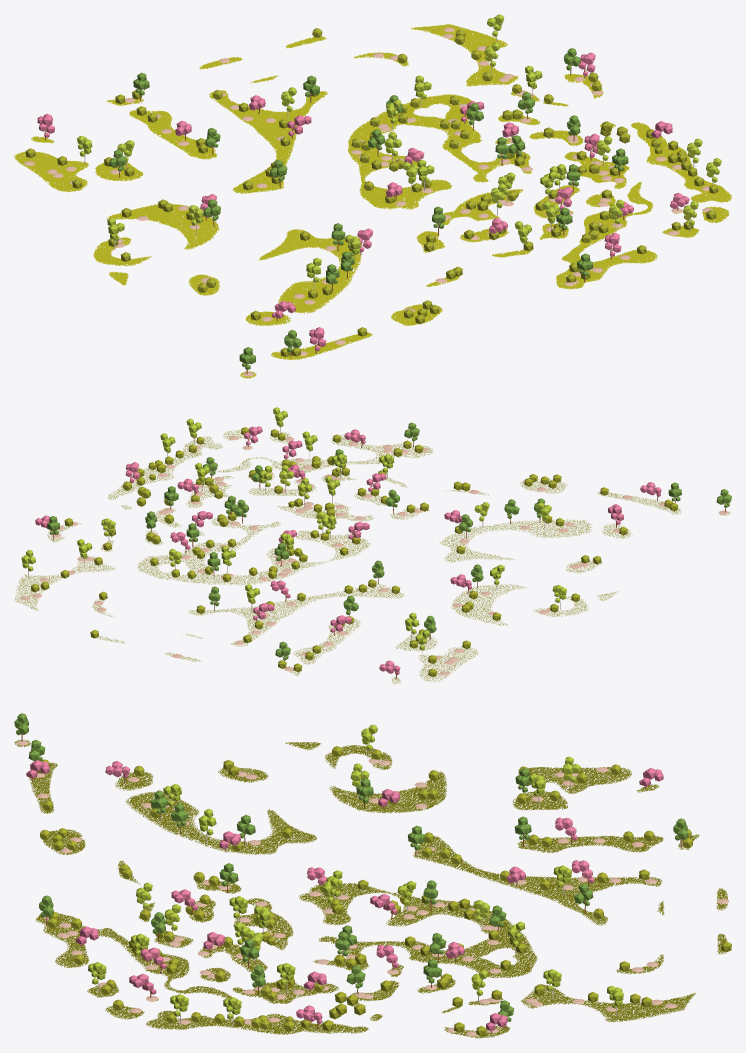
The model's file is vegetation.glb.
3 renders of one model, top to bottom at view 1: azimuth 30°, elevation 25°; view 2: azimuth 150°, elevation 25°; view 3: azimuth 270°, elevation 25°, orthographic. The views are drawn at different scales.
Parts seen in each view (by area): view 1: Plane.003; view 2: Plane.003; view 3: Plane.003.
Part boxes in pixels (x1,y1,x2,y2): Plane.003: (14, 24, 731, 378); Plane.003: (15, 430, 729, 684); Plane.003: (14, 740, 727, 1038).
Size of the model in its own units: 177 by 10.24 by 178.
5 materials, 1 textured.
